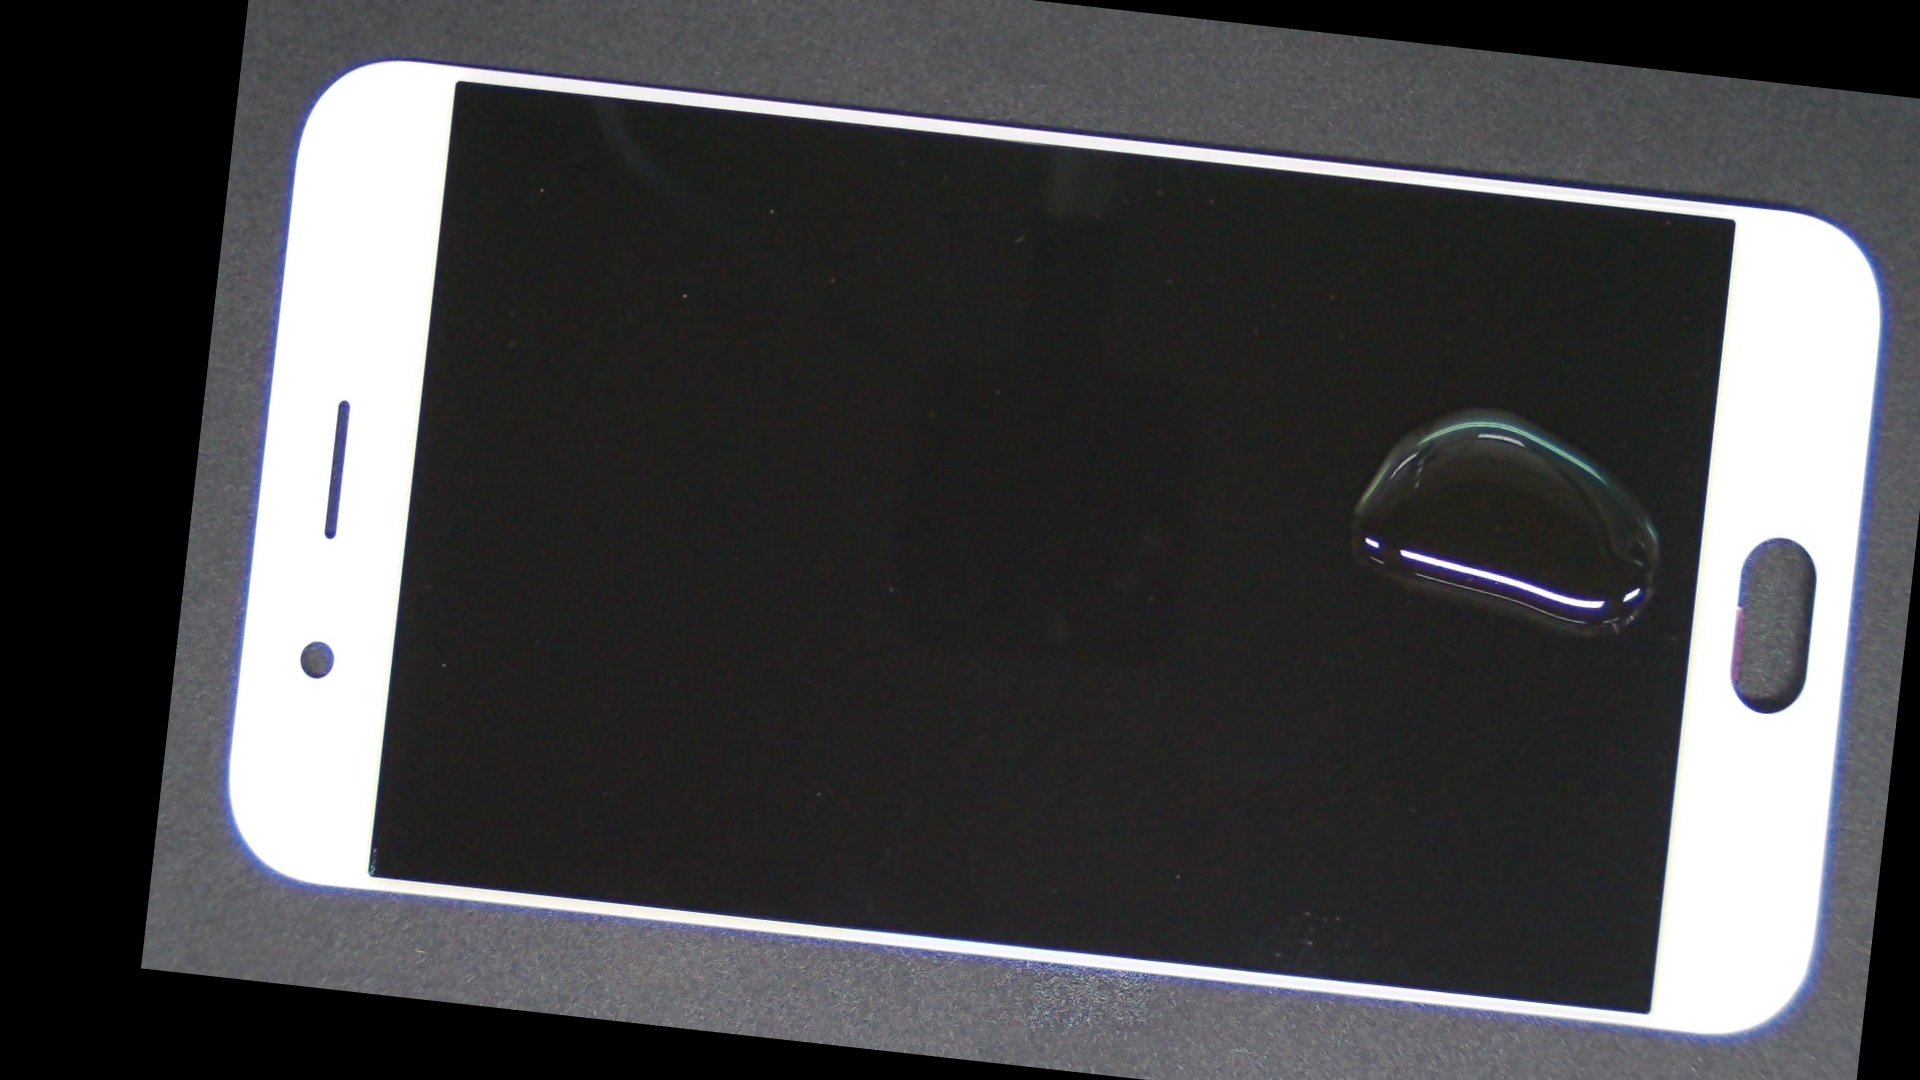oil: (835, 160, 1920, 632)
